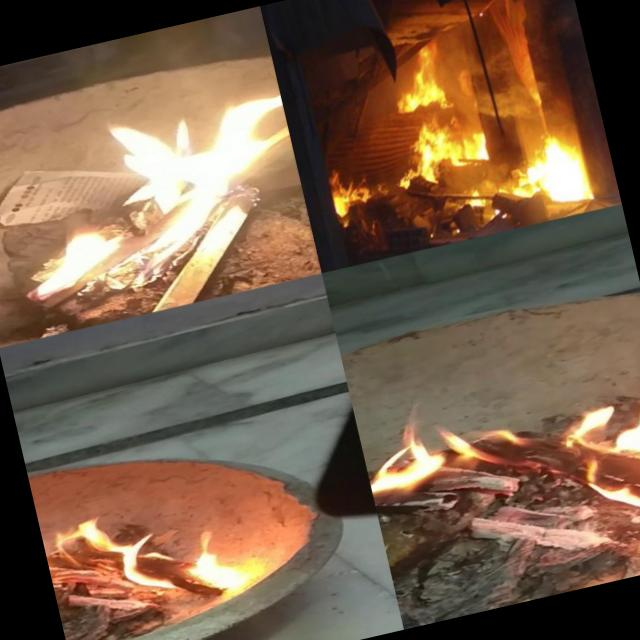fire: (0, 80, 318, 326), (356, 353, 640, 601), (63, 504, 164, 602), (506, 124, 596, 217), (392, 106, 492, 182), (176, 518, 262, 600), (318, 150, 375, 228), (388, 53, 449, 115), (456, 184, 492, 215)
